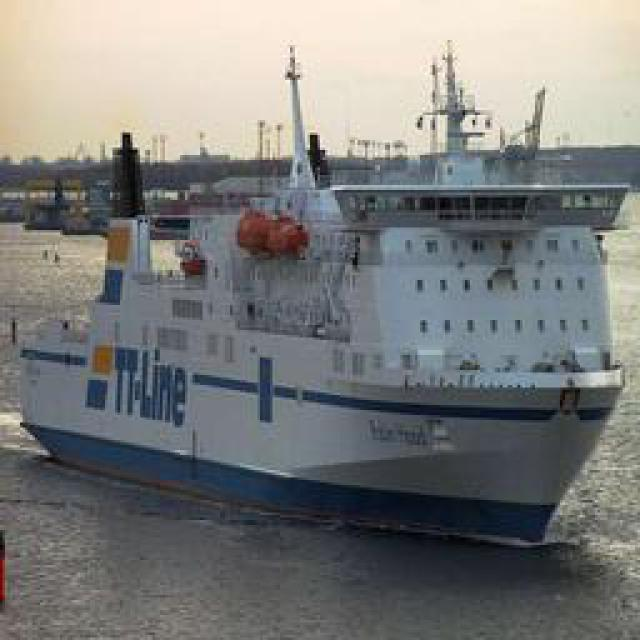Ship: (15, 26, 628, 556)
